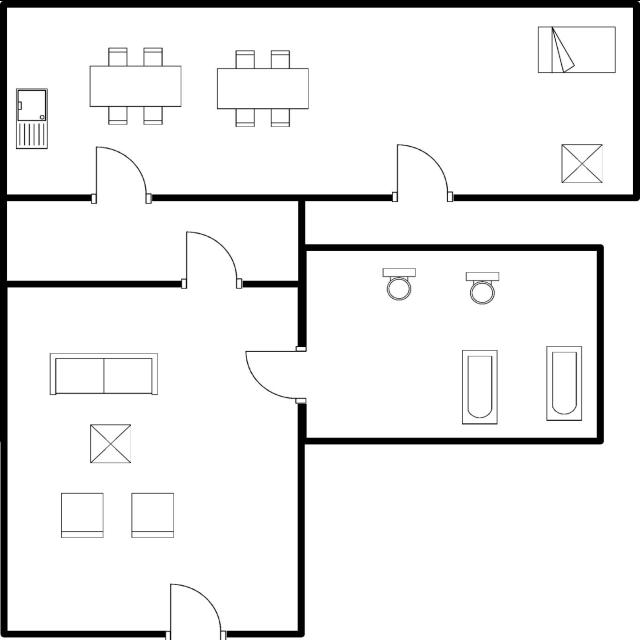bed: (532, 19, 620, 79)
coffee_table: (556, 138, 608, 188), (86, 419, 136, 469)
dining_table: (80, 42, 188, 130), (210, 46, 315, 132)
large_sink: (459, 268, 505, 310), (380, 263, 422, 302)
large_sofa: (43, 348, 165, 400)
sink: (10, 81, 56, 155)
small_sofa: (54, 489, 110, 544), (126, 490, 180, 544)
tub: (540, 339, 588, 425), (457, 346, 503, 430)
